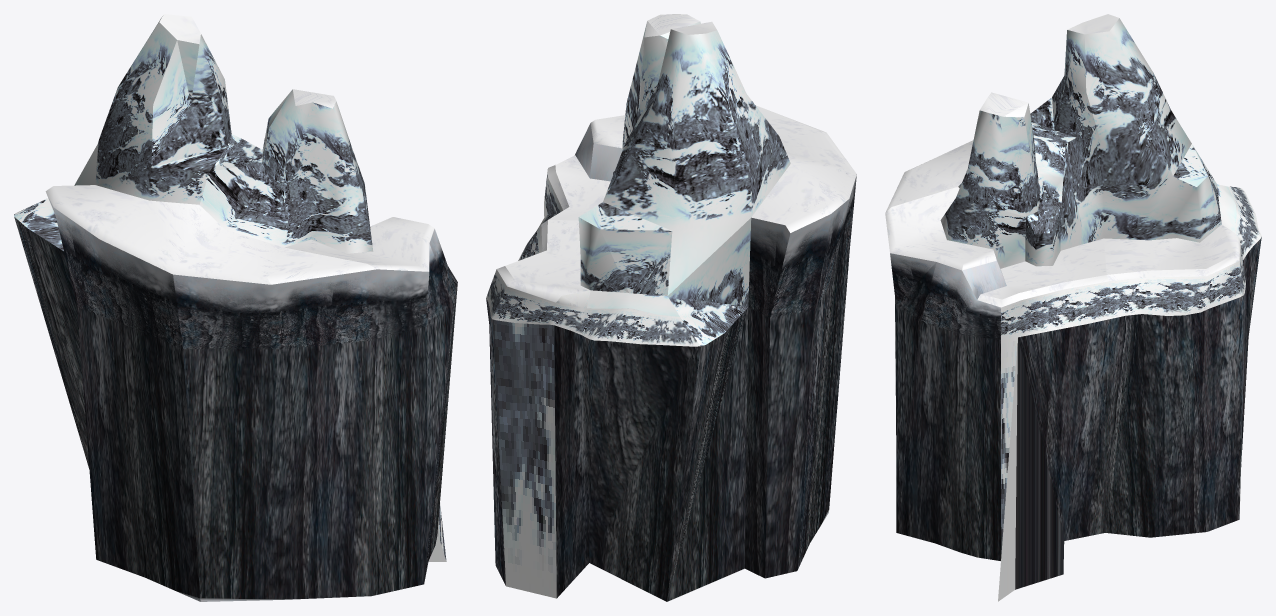
File: san004.obj
3 views of the same model, side by side, from view 1: azimuth 30°, elevation 25°; view 2: azimuth 150°, elevation 25°; view 3: azimuth 270°, elevation 25° (orthographic). The views are drawn at different scales.
Parts seen in each view (by area): view 1: san004; view 2: san004; view 3: san004.
Part boxes in pixels (bbox=[...]): san004: bbox=[14, 14, 457, 601]; san004: bbox=[486, 14, 856, 601]; san004: bbox=[885, 14, 1261, 601].
Bounding box in the file's own units: 846 × 1314 × 914.
